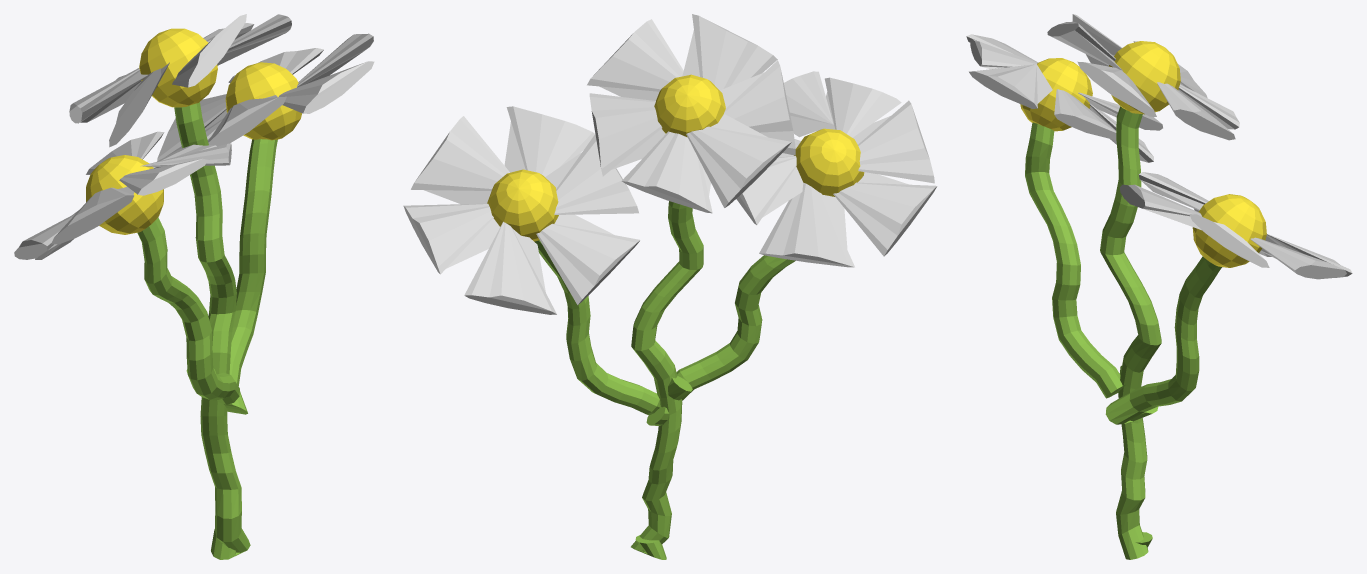
3 views of the same model, side by side, from view 1: azimuth 30°, elevation 25°; view 2: azimuth 150°, elevation 25°; view 3: azimuth 270°, elevation 25° (orthographic). The views are drawn at different scales.
Visible parts, largest first — view 1: default; view 2: default; view 3: default.
Part boxes in pixels (bbox=[...]): default: bbox=[14, 14, 374, 559]; default: bbox=[403, 14, 937, 559]; default: bbox=[966, 14, 1352, 559].
Bounding box in the file's own units: 0.1865 × 0.2331 × 0.1554.
